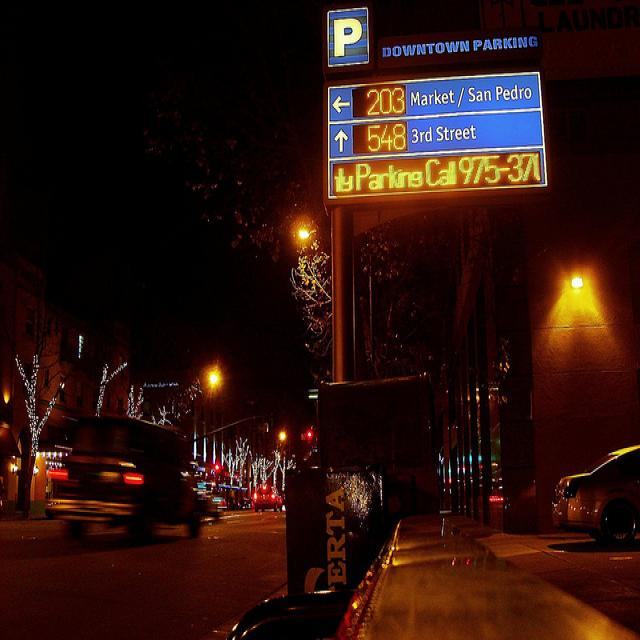Vehicle: (43, 434, 204, 517), (551, 445, 640, 548), (192, 485, 228, 521), (204, 481, 248, 510), (254, 485, 284, 513)
